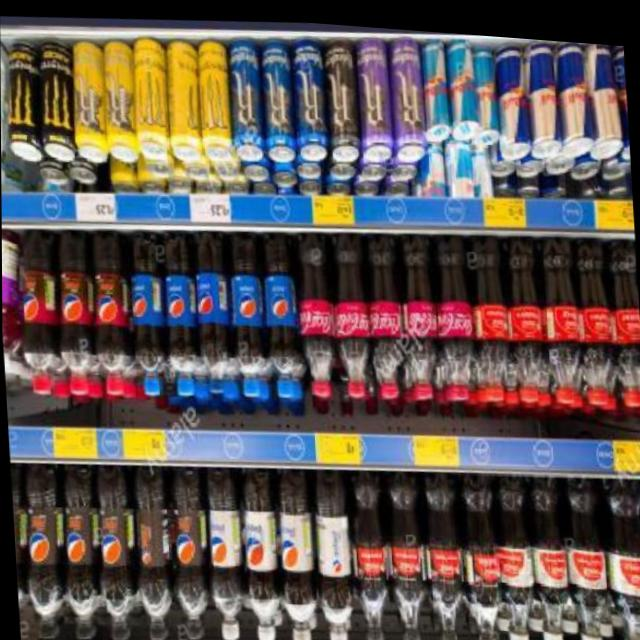Drinks: (130, 461, 177, 640), (20, 461, 67, 640), (15, 225, 64, 396), (274, 462, 321, 640), (57, 462, 104, 640), (167, 461, 214, 638), (93, 463, 140, 640), (310, 463, 356, 640), (237, 463, 283, 640), (53, 226, 99, 397), (204, 462, 248, 640), (88, 226, 134, 396), (361, 224, 407, 394), (328, 224, 374, 394), (396, 225, 442, 394), (294, 226, 339, 393), (225, 226, 269, 396), (430, 223, 474, 393), (259, 226, 303, 396), (128, 225, 170, 395), (191, 225, 234, 391), (159, 226, 201, 395), (10, 464, 31, 640)
